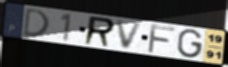1: (60, 13, 72, 44)
D: (22, 7, 51, 39)
F: (146, 23, 177, 55)
G: (176, 28, 205, 60)
R: (82, 14, 117, 49)
V: (115, 20, 145, 51)
